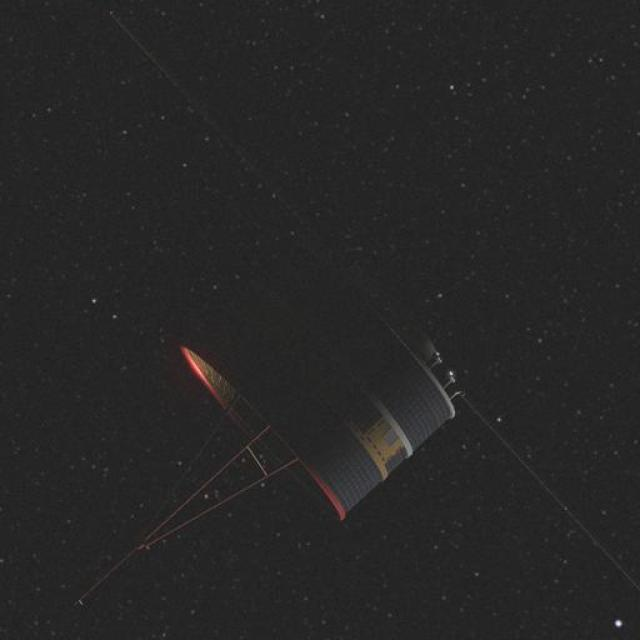double_start: (162, 209, 476, 553)
